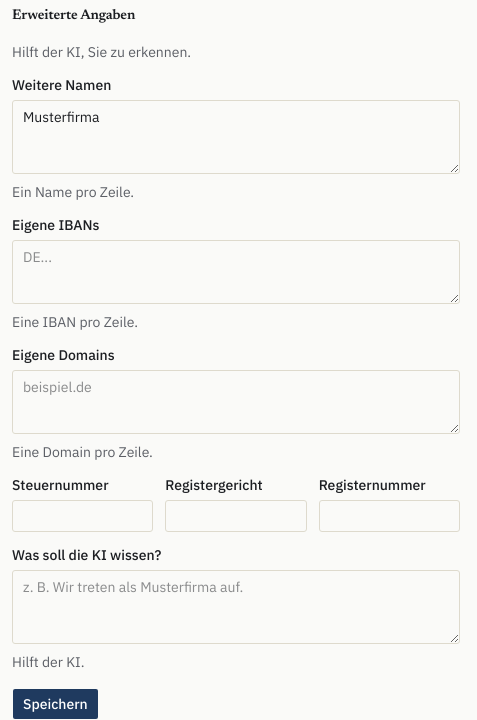
Test case: CompanyProfileForm › shows the invalid-IBAN error's German copy when the action rejects it
(page scrolled)
Click the button "Speichern" at x=55, y=704, box [12,688,99,719]
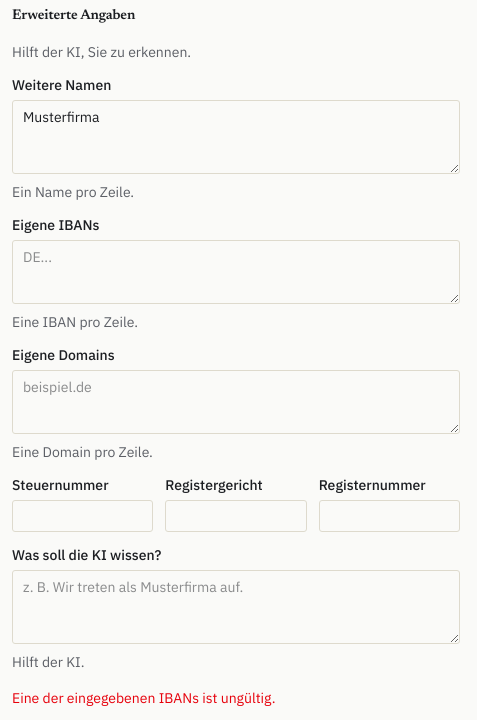
Result: the text "Eine der eingegebenen IBANs ist ungültig." is shown at [12,689,275,707]
